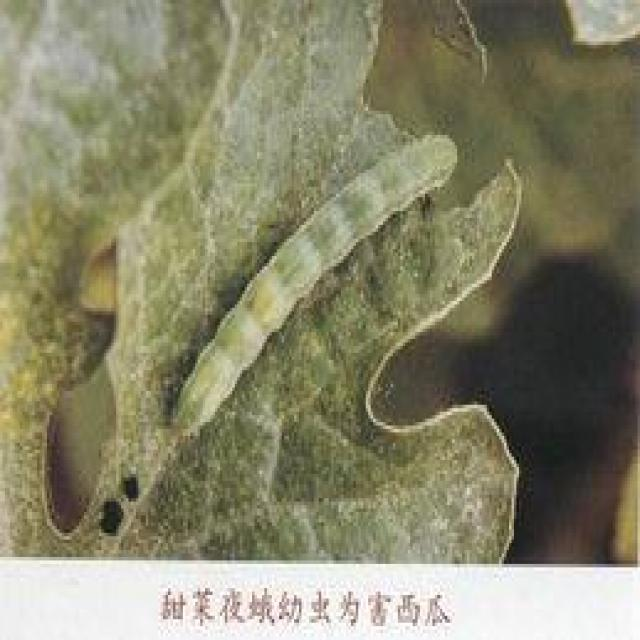BeetArmyWorm-Larva-: (170, 131, 463, 447)
